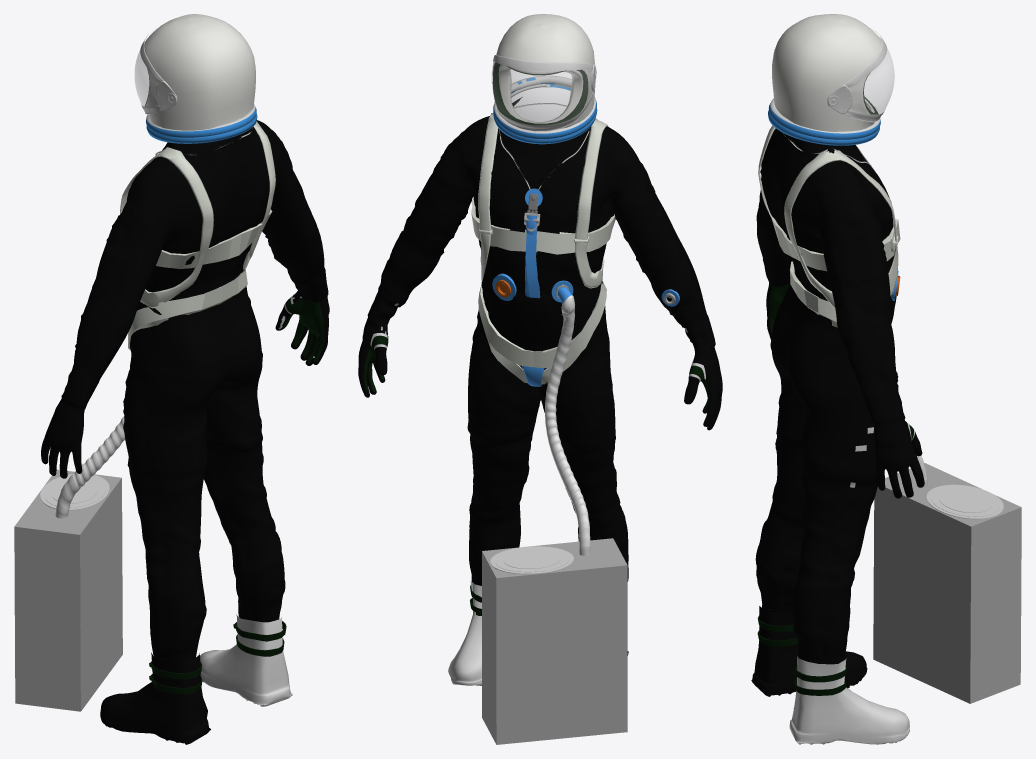
The model's file is Gemini Spacesuit.glb.
3 renders of one model, left to right at view 1: azimuth 30°, elevation 25°; view 2: azimuth 150°, elevation 25°; view 3: azimuth 270°, elevation 25°, orthographic. The views are drawn at different scales.
Parts seen in each view (by area): view 1: GeminiSuit:polySurface1; view 2: GeminiSuit:polySurface1; view 3: GeminiSuit:polySurface1.
Boxes of the visible parts, x1=… form: GeminiSuit:polySurface1: x1=14, y1=14, x2=329, y2=744; GeminiSuit:polySurface1: x1=358, y1=14, x2=722, y2=744; GeminiSuit:polySurface1: x1=751, y1=14, x2=1021, y2=744.
Size of the model in its own units: 0.9952 by 2 by 0.7095.
